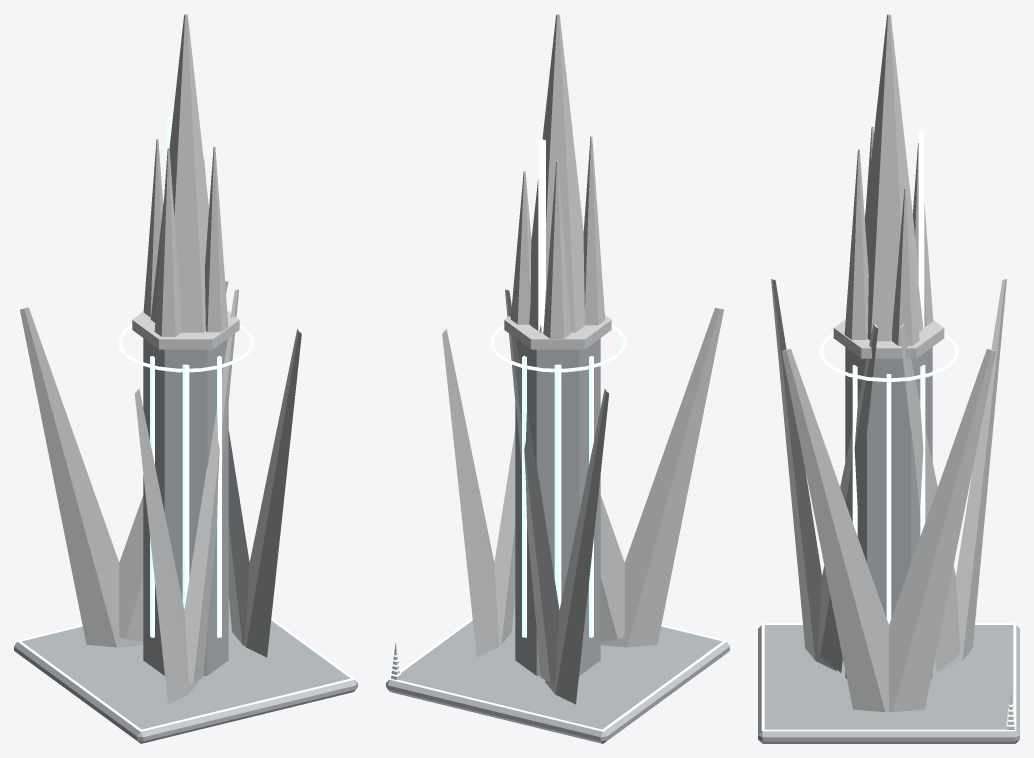
Rendered from zone_high_5_t5.glb.
The picture shows the model from 3 angles, left to right: view 1: azimuth 30°, elevation 25°; view 2: azimuth 150°, elevation 25°; view 3: azimuth 270°, elevation 25°; orthographic projection. The views are drawn at different scales.
Parts seen in each view (by area): view 1: zone_high_5_t5, detail; view 2: zone_high_5_t5, detail; view 3: zone_high_5_t5, detail.
Boxes of the visible parts, x1,y1,x2,y2 form: zone_high_5_t5: [14, 14, 357, 743]; detail: [17, 618, 354, 731]; zone_high_5_t5: [386, 14, 729, 743]; detail: [389, 618, 726, 731]; zone_high_5_t5: [758, 14, 1019, 743]; detail: [761, 623, 1016, 731].
Bounding box in the file's own units: 27.5 × 79.94 × 27.5.
